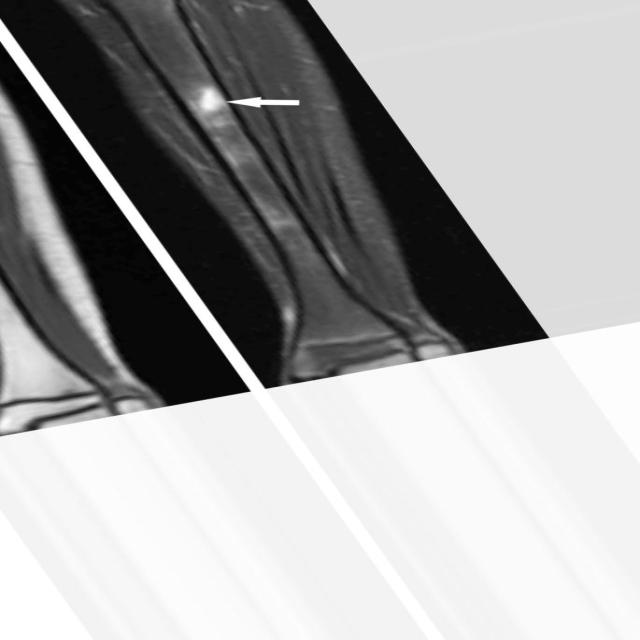Oblique Displaced: (189, 75, 231, 127)
